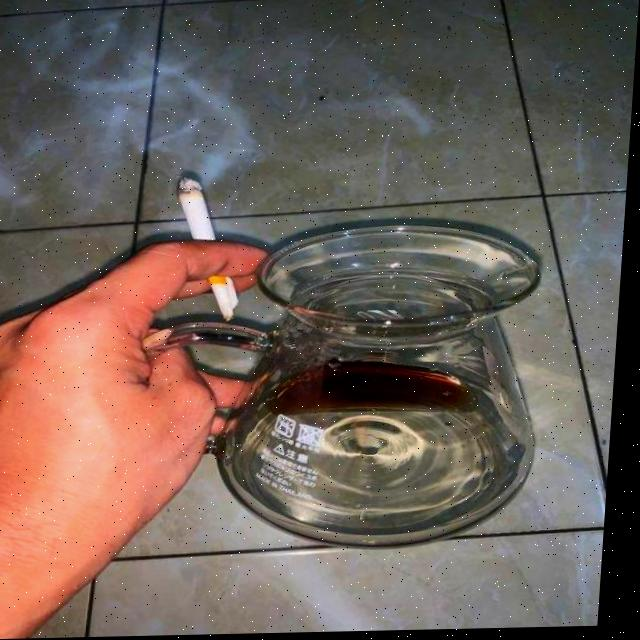cigarette: (173, 178, 249, 320)
